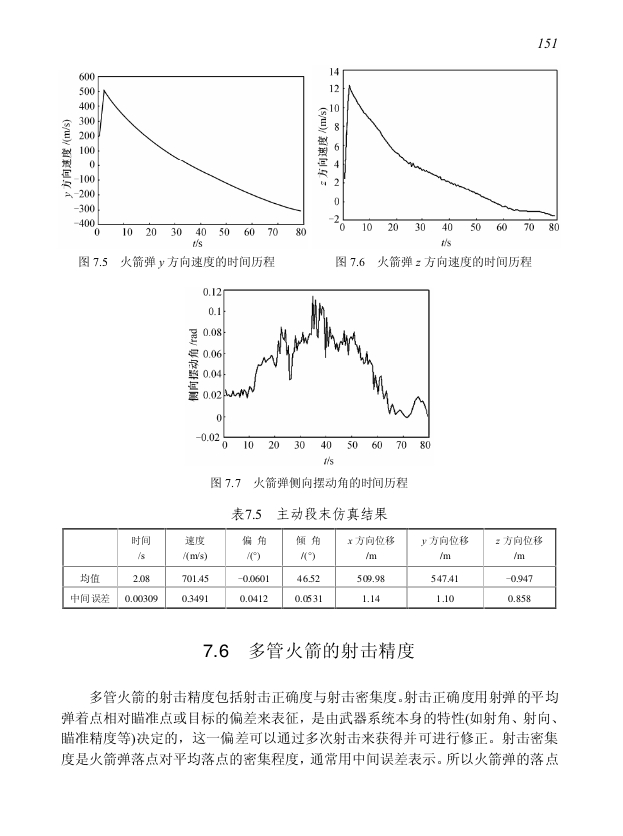table: (62, 528, 557, 608)
